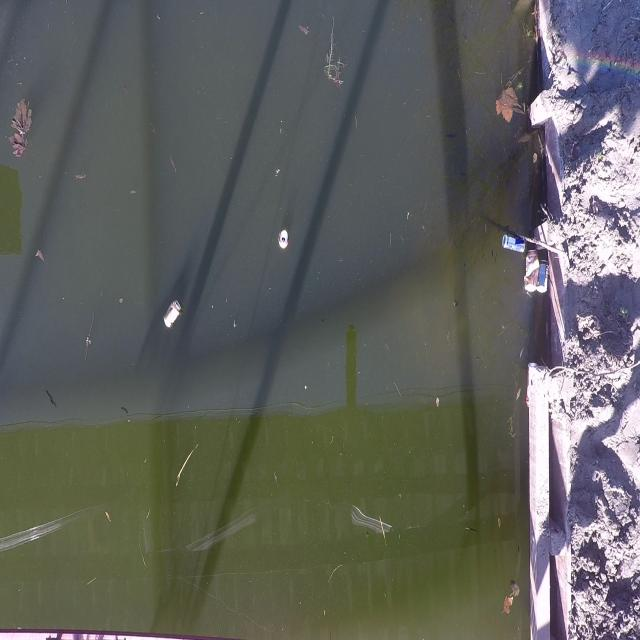Non plastique: (521, 246, 540, 299), (498, 230, 527, 261), (160, 300, 183, 334), (534, 257, 550, 300), (275, 229, 290, 253)
